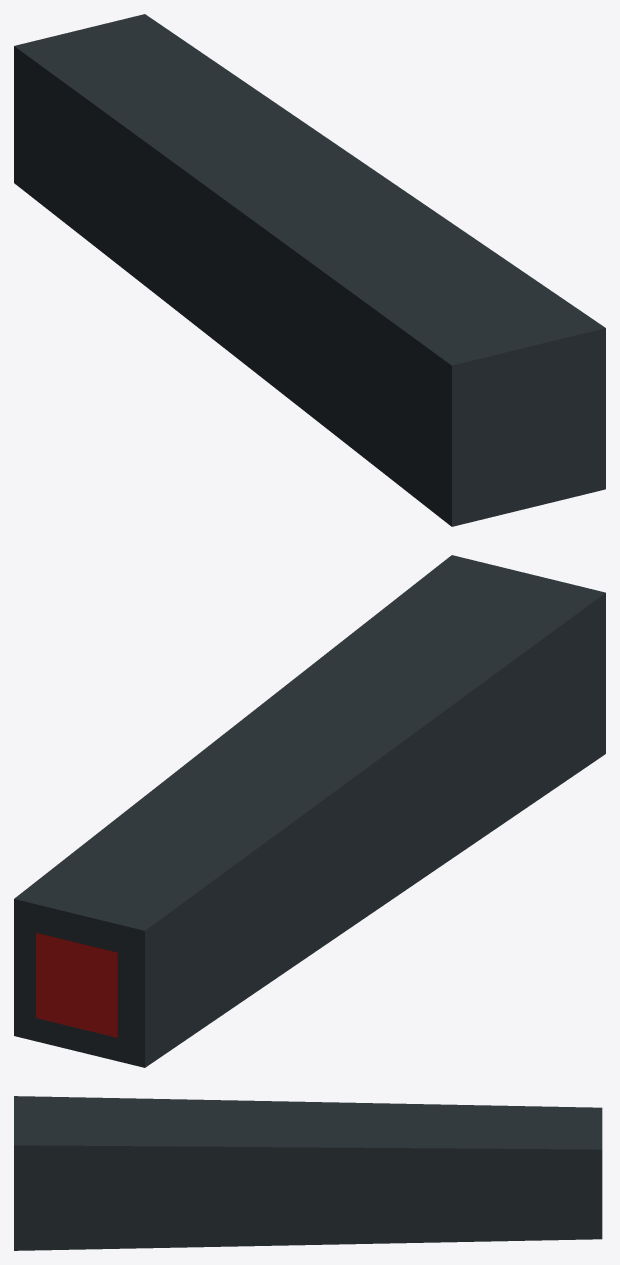
The picture shows the model from 3 angles, top to bottom: view 1: azimuth 30°, elevation 25°; view 2: azimuth 150°, elevation 25°; view 3: azimuth 270°, elevation 25°; orthographic projection. The views are drawn at different scales.
Visible parts, largest first — view 1: mount; view 2: mount; view 3: mount.
Boxes of the visible parts, box(x1,y1,x2,y2) form: mount: box(14, 14, 605, 526); mount: box(14, 555, 605, 1067); mount: box(14, 1096, 602, 1250).
Size of the model in its own units: 0.9899 by 0.9899 by 5.03.
